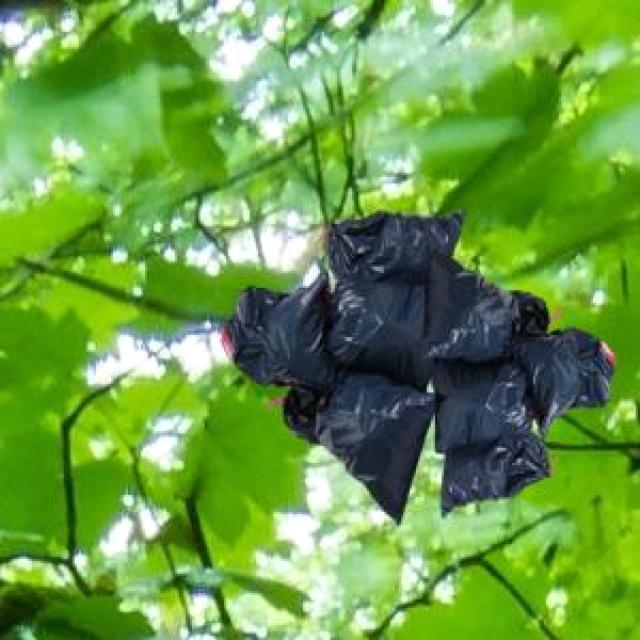Bolsa-de-nilon: (222, 212, 617, 525)
